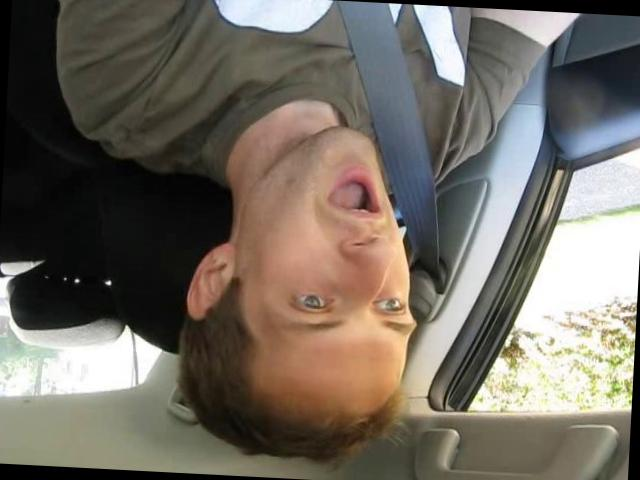eye_open: (284, 281, 339, 320), (373, 294, 408, 320)
face: (253, 122, 428, 358)
mouth_open: (320, 162, 389, 225)
